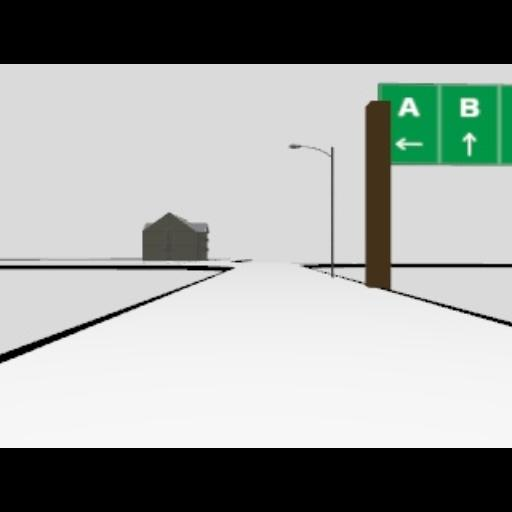A: (397, 95, 419, 117)
B: (460, 96, 478, 116)
Left: (392, 136, 424, 150)
Straight: (461, 131, 477, 155)
